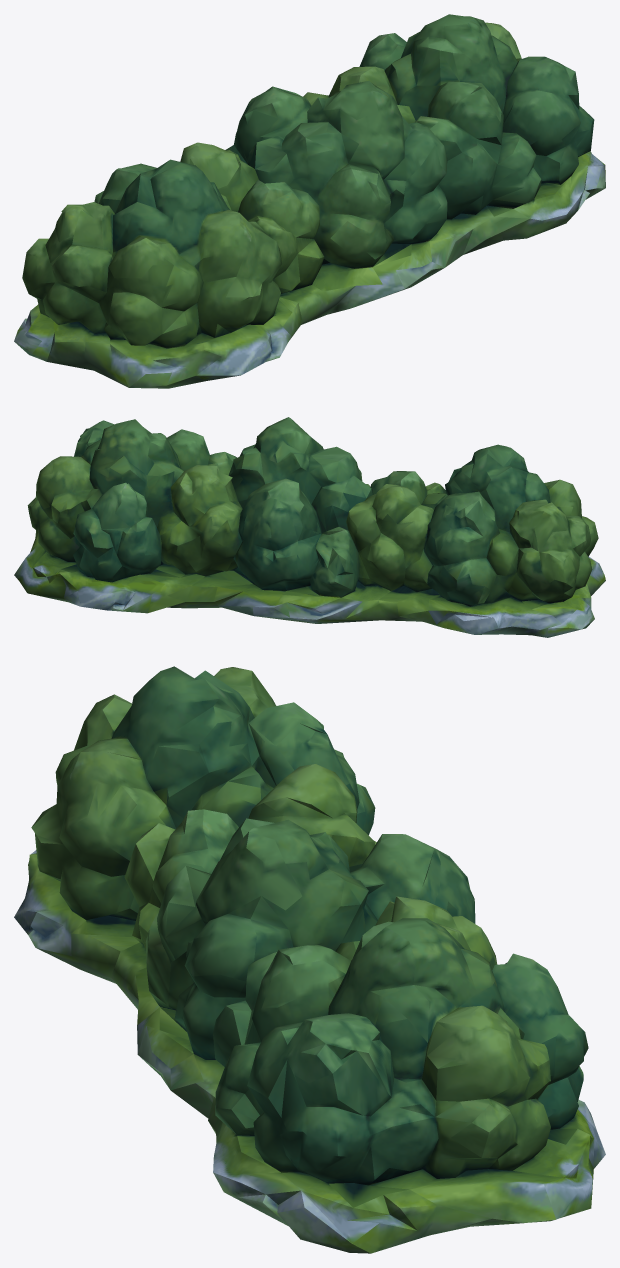
3 views of the same model, one above another, from view 1: azimuth 30°, elevation 25°; view 2: azimuth 150°, elevation 25°; view 3: azimuth 270°, elevation 25° (orthographic). The views are drawn at different scales.
Visible parts, largest first — view 1: backdrop_forest; view 2: backdrop_forest; view 3: backdrop_forest.
Part boxes in pixels (left/top/right/bottom): backdrop_forest: left=14, top=14, right=605, bottom=388; backdrop_forest: left=14, top=417, right=605, bottom=637; backdrop_forest: left=14, top=666, right=605, bottom=1253.
Bounding box in the file's own units: 0.9806 × 0.2605 × 0.5715.
Materials: 1 (1 with a texture image).
